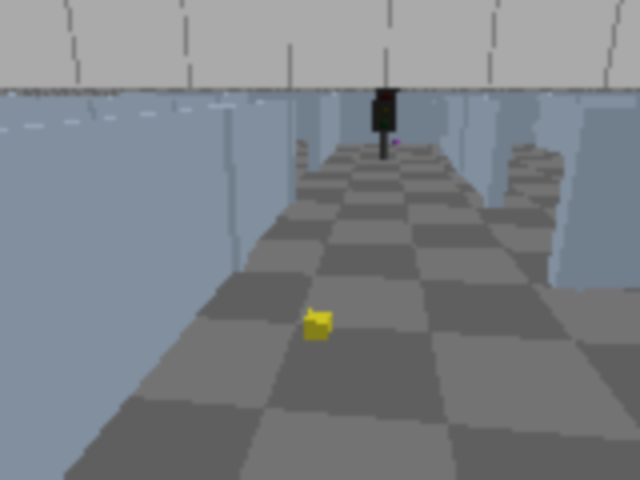puck: (303, 310, 332, 341)
